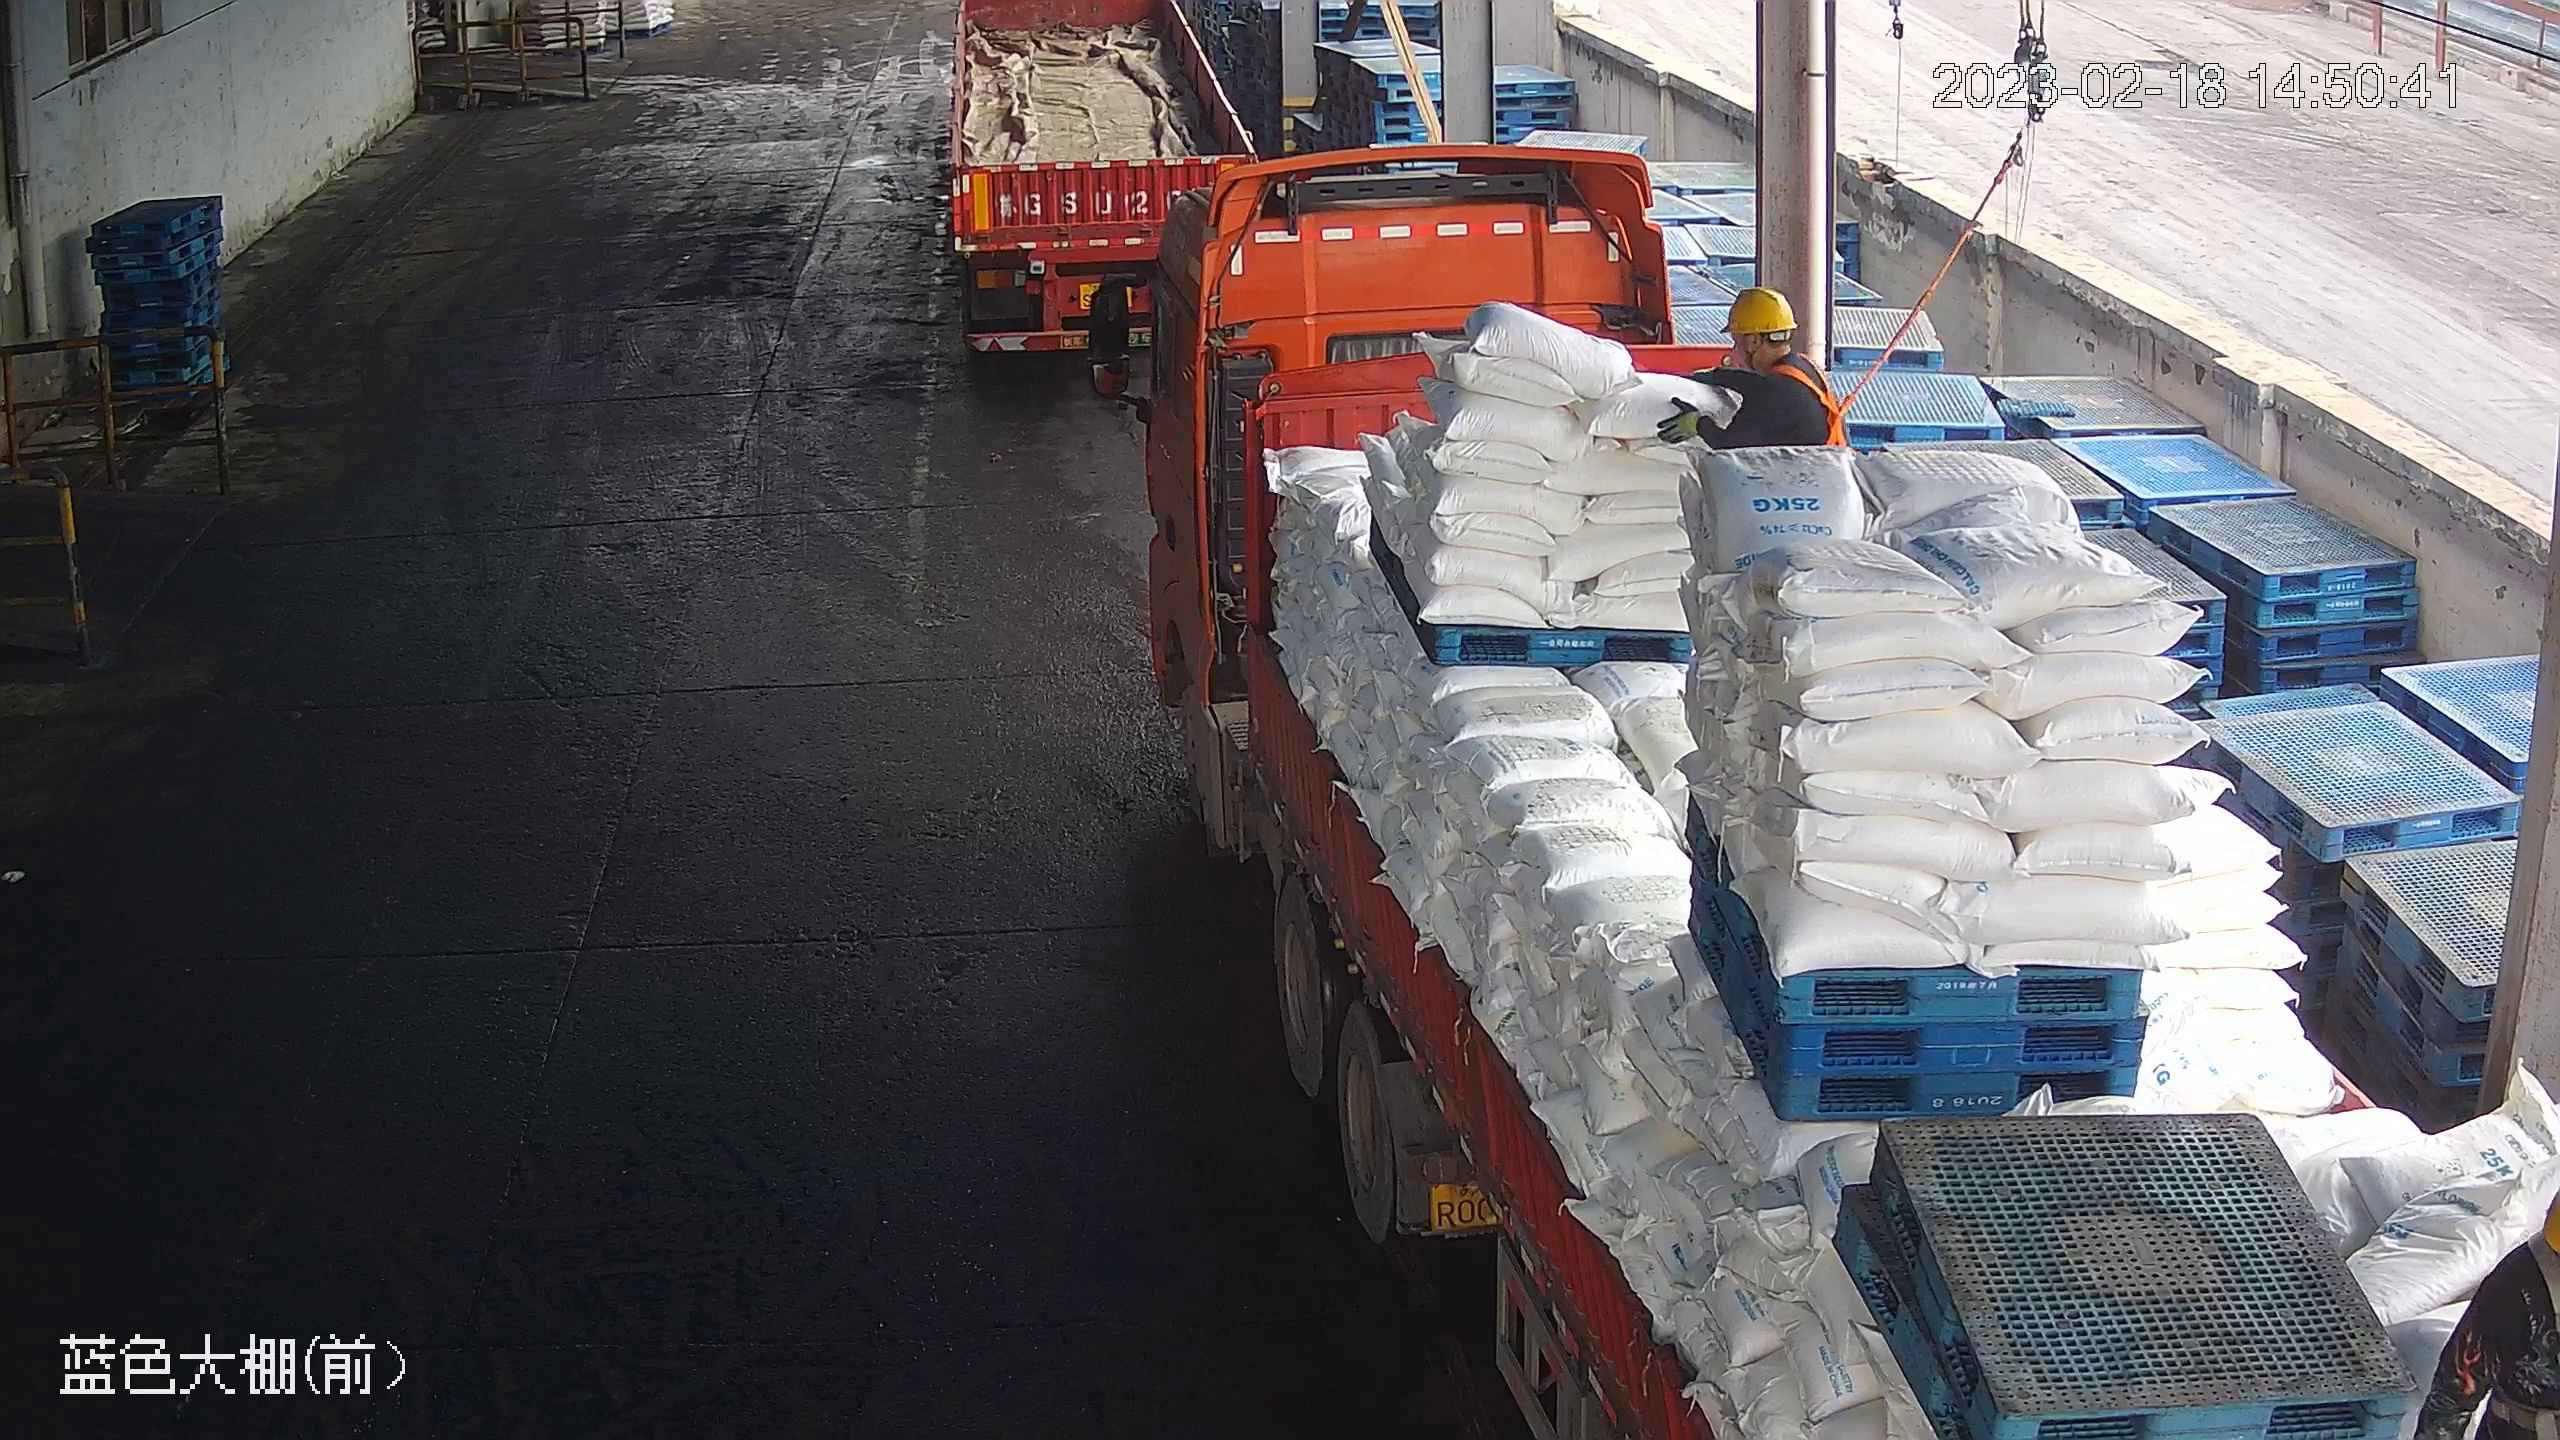belt: (1764, 354, 1846, 445)
head: (1707, 288, 1834, 425)
helmet: (1722, 285, 1800, 336)
truck: (1067, 159, 2553, 1440), (940, 6, 1296, 390)
